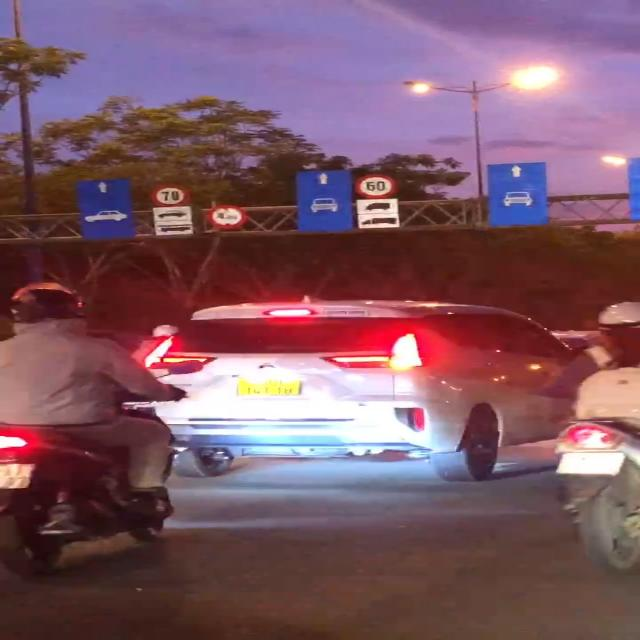Bien bao toc do toi da cho phep: (148, 182, 195, 209), (348, 173, 396, 199)
